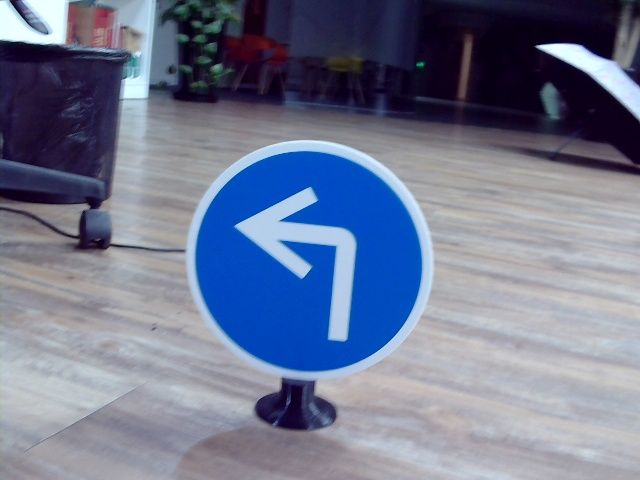turn_left: (233, 183, 374, 346)
